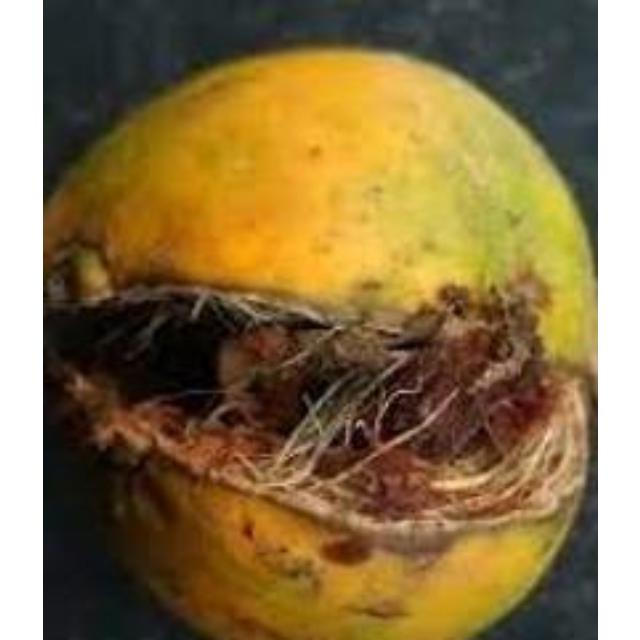damaged: (42, 45, 594, 637)
